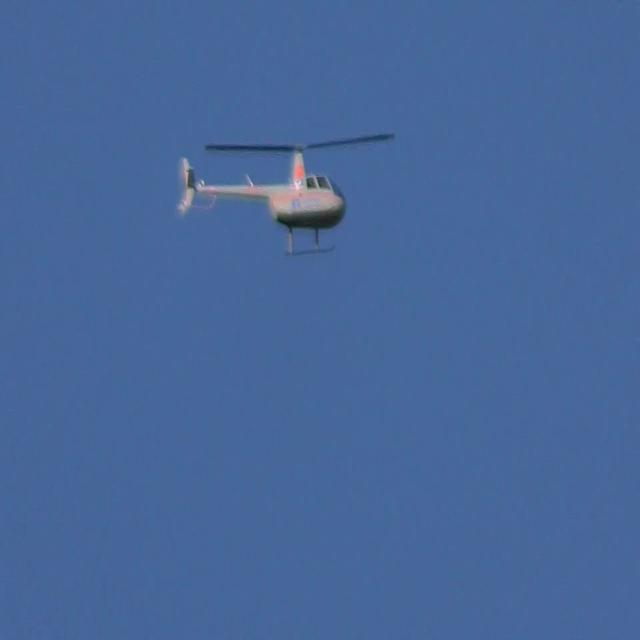CIV_HELO: (178, 142, 346, 262)
